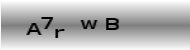7: (40, 16, 53, 29)
A: (26, 22, 42, 36)
B: (105, 17, 119, 30)
r: (53, 27, 65, 39)
w: (80, 19, 98, 30)
